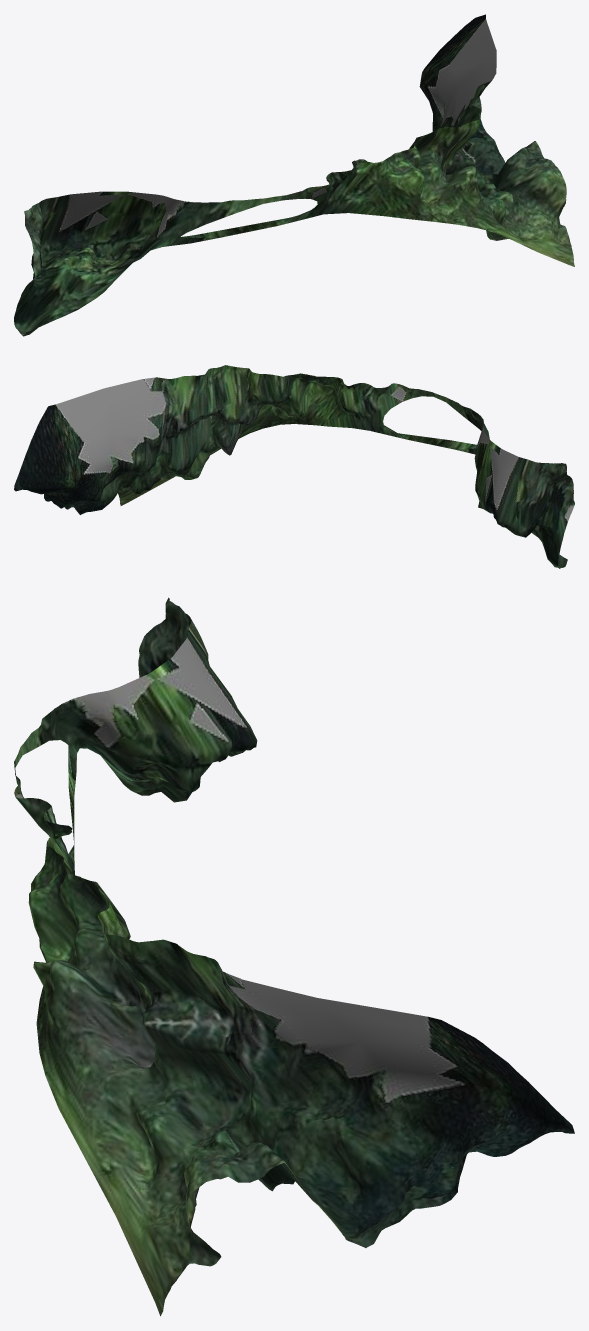
The model's file is Tile_+008_+002.fbx.
3 renders of one model, top to bottom at view 1: azimuth 30°, elevation 25°; view 2: azimuth 150°, elevation 25°; view 3: azimuth 270°, elevation 25°, orthographic. The views are drawn at different scales.
Visible parts, largest first — view 1: DefaultName; view 2: DefaultName; view 3: DefaultName.
Boxes of the visible parts, x1,y1,x2,y2 form: DefaultName: [14, 14, 574, 336]; DefaultName: [14, 365, 574, 568]; DefaultName: [14, 597, 574, 1316].
Bounding box in the file's own units: 22.54 × 7.37 × 12.64.
